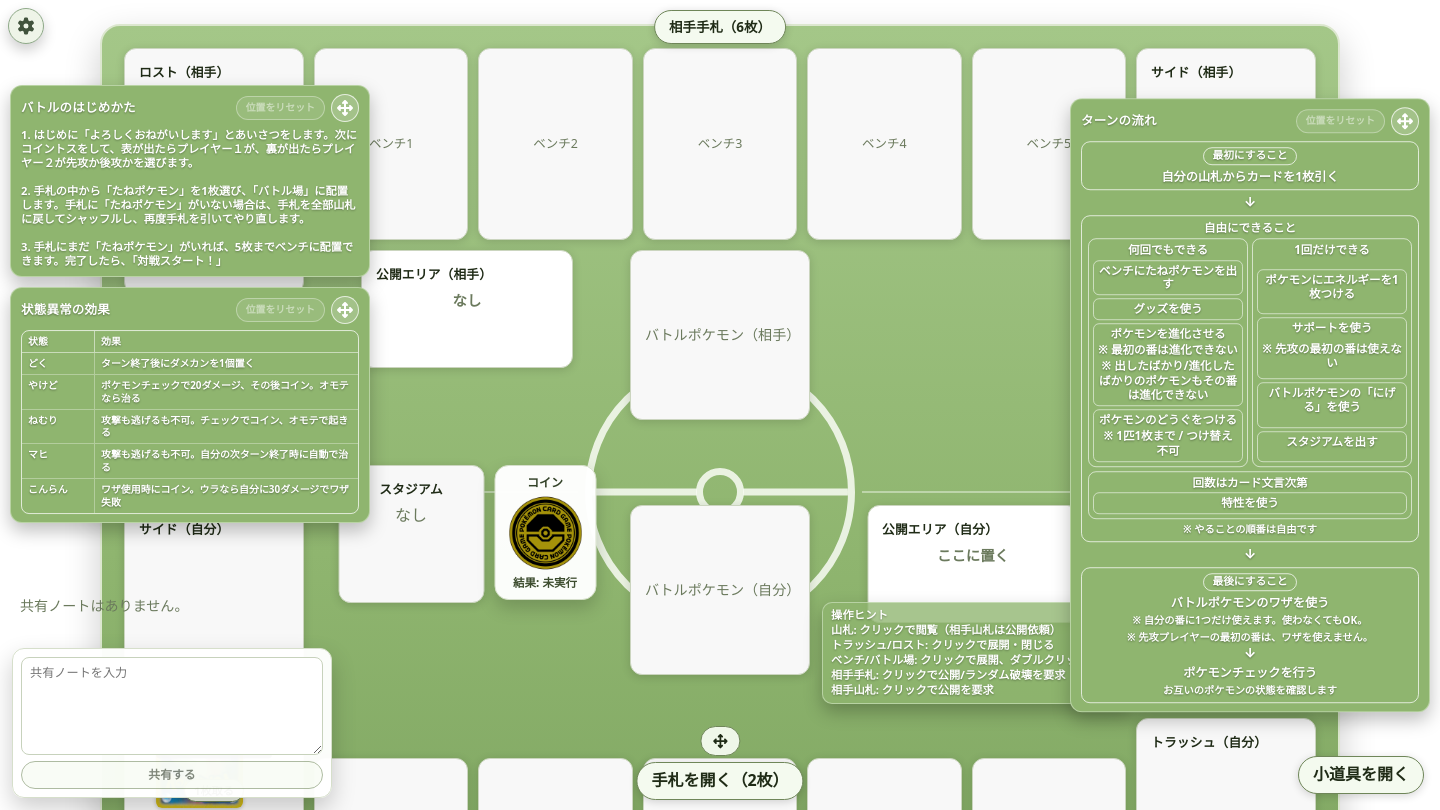
Test: hand tray toggle updates aria-expanded and panel visibility
Click the button "手札を開く（2枚）".
click(720, 781)  # box [636, 762, 804, 800]
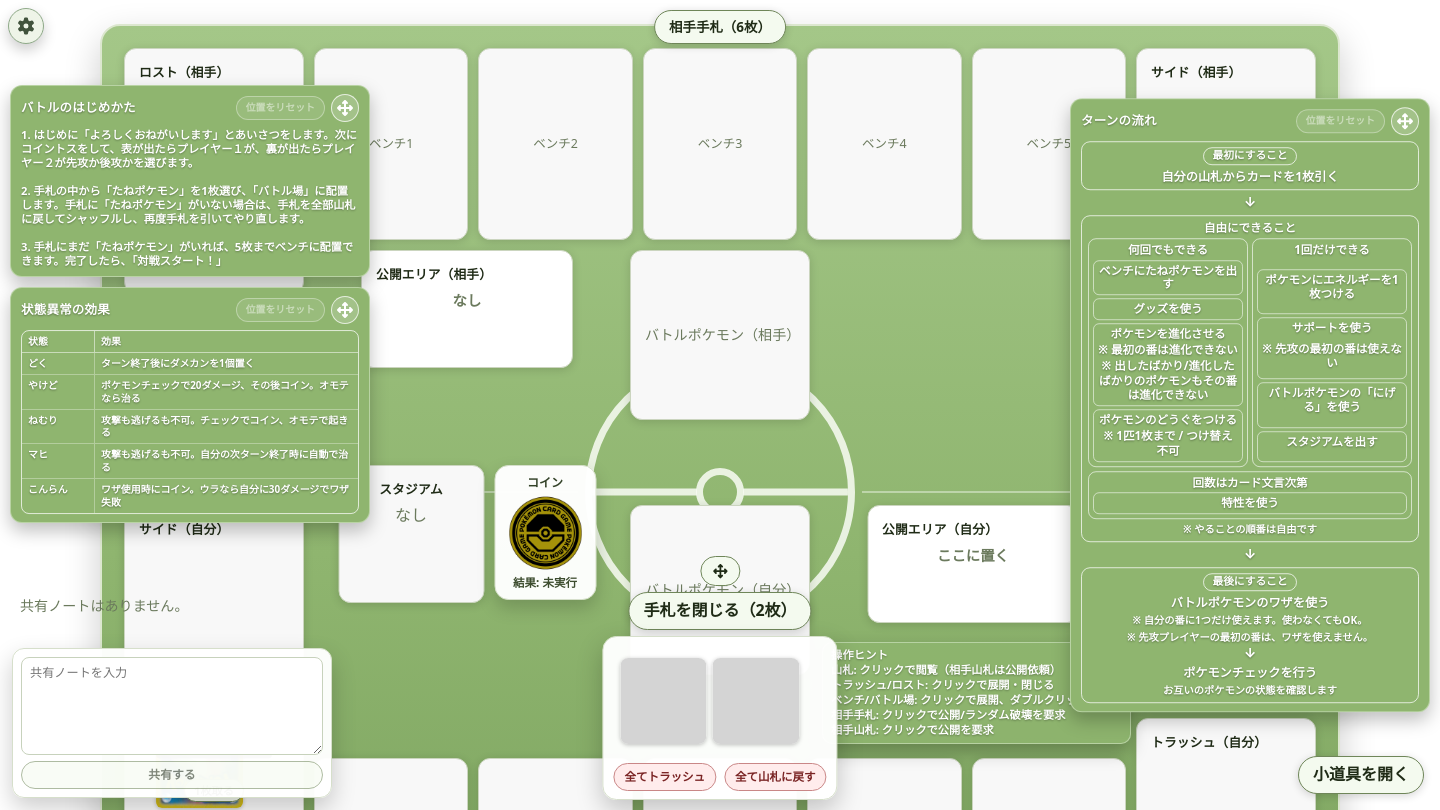
Result: the button "手札を閉じる（2枚）" is expanded at [628, 592, 812, 630]
